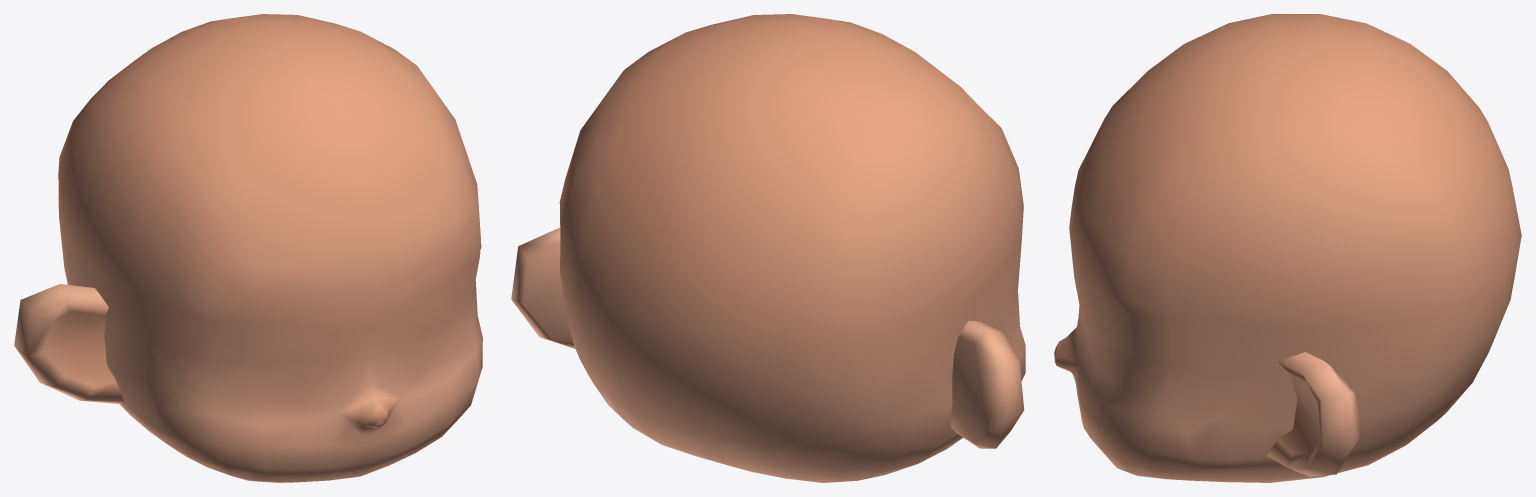
Rendered from Body_Yellow_Head_1.fbx.
3 views of the same model, side by side, from view 1: azimuth 30°, elevation 25°; view 2: azimuth 150°, elevation 25°; view 3: azimuth 270°, elevation 25° (orthographic). The views are drawn at different scales.
Parts seen in each view (by area): view 1: Body_Yellow_Head_1; view 2: Body_Yellow_Head_1; view 3: Body_Yellow_Head_1.
Boxes of the visible parts, x1,y1,x2,y2 form: Body_Yellow_Head_1: [14, 14, 482, 482]; Body_Yellow_Head_1: [511, 14, 1025, 482]; Body_Yellow_Head_1: [1054, 14, 1521, 482].
Bounding box in the file's own units: 64.19 × 52.19 × 53.9.
